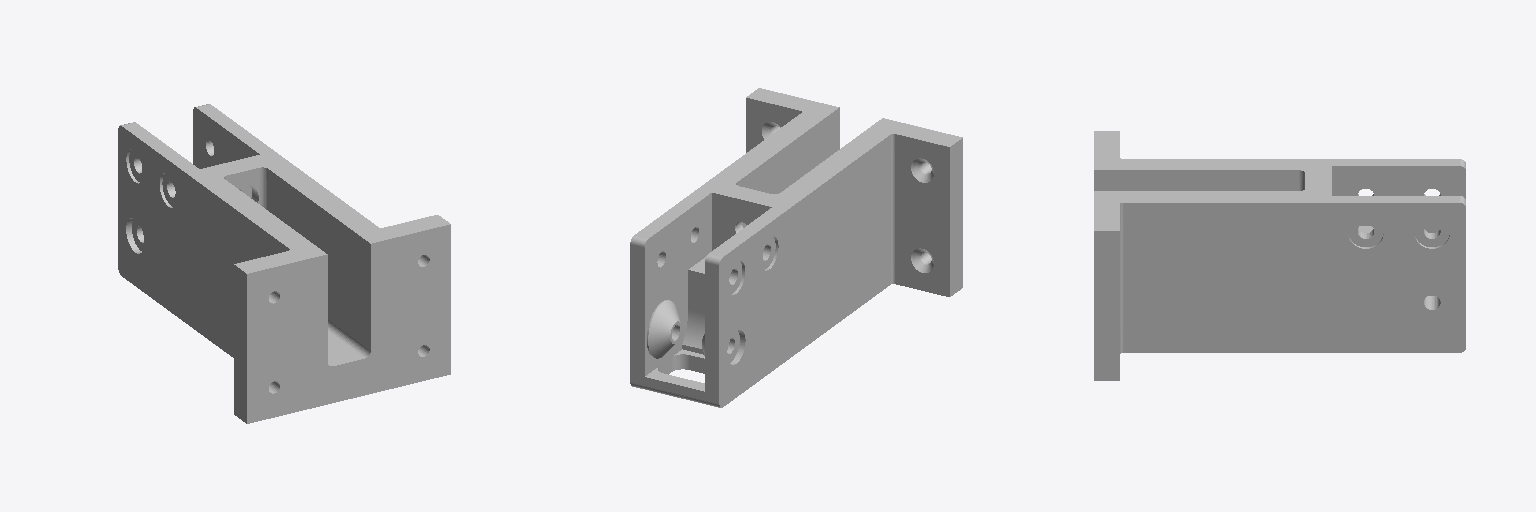
Rendered from linear_axis_idler_1x.obj.
3 renders of one model, left to right at view 1: azimuth 30°, elevation 25°; view 2: azimuth 150°, elevation 25°; view 3: azimuth 270°, elevation 25°, orthographic.
Visible parts, largest first — view 1: linear_axis_idler_1x; view 2: linear_axis_idler_1x; view 3: linear_axis_idler_1x.
Part boxes in pixels (left/top/right/bottom): linear_axis_idler_1x: left=118, top=104, right=450, bottom=423; linear_axis_idler_1x: left=630, top=88, right=962, bottom=407; linear_axis_idler_1x: left=1094, top=131, right=1465, bottom=380.
Size of the model in its own units: 71 by 49.95 by 112.